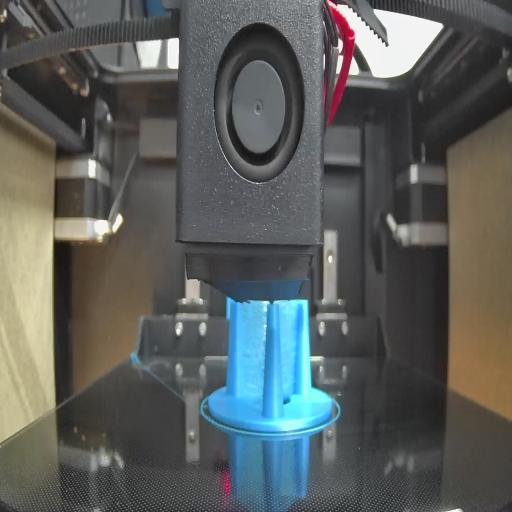stringing: (238, 303, 266, 412), (282, 302, 299, 408)
